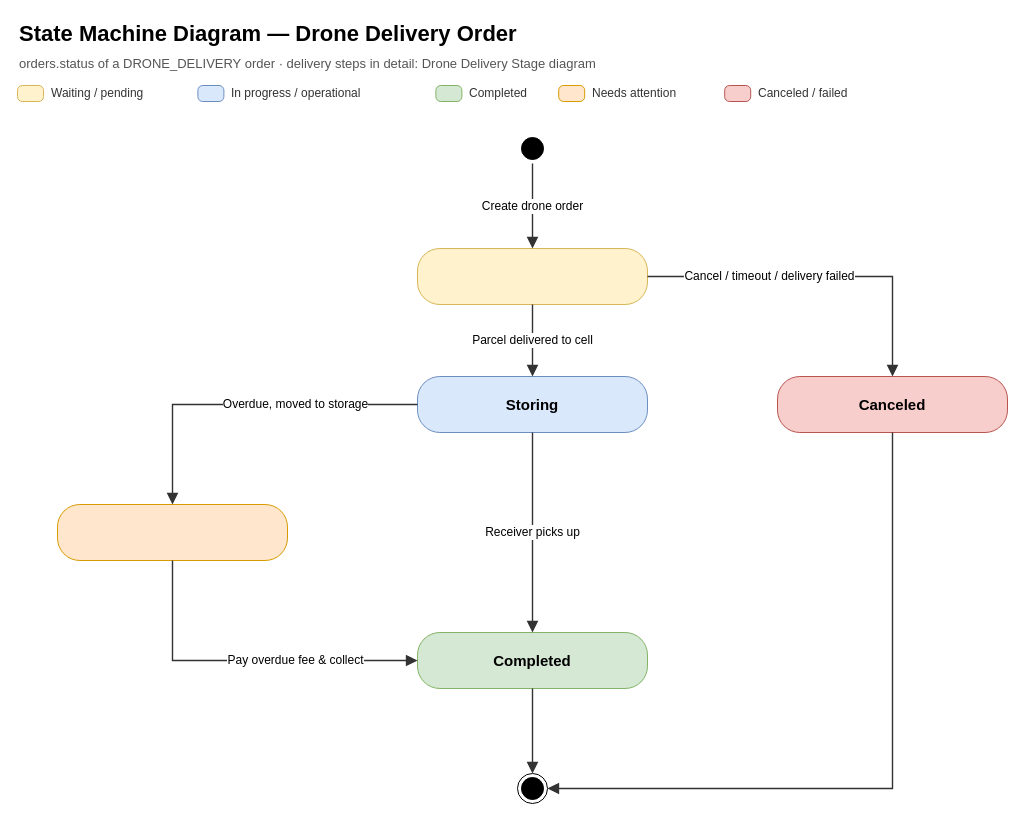
Some shapes in this 1035 by 821 pixel diagram are drawn without their labels. The shapes that lost their labels are listed below. From the top down, each one's centre as x and y in pixels, then its label:
At pixel 532 276: "Awaiting Dispatch".
At pixel 172 532: "Expired".
